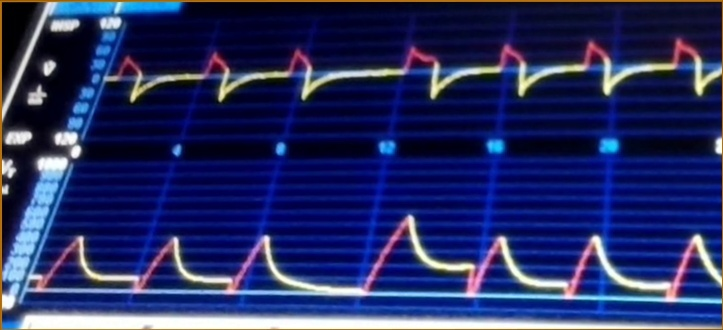Flow: (117, 28, 723, 135)
Leakage Volume: (35, 207, 723, 311)
